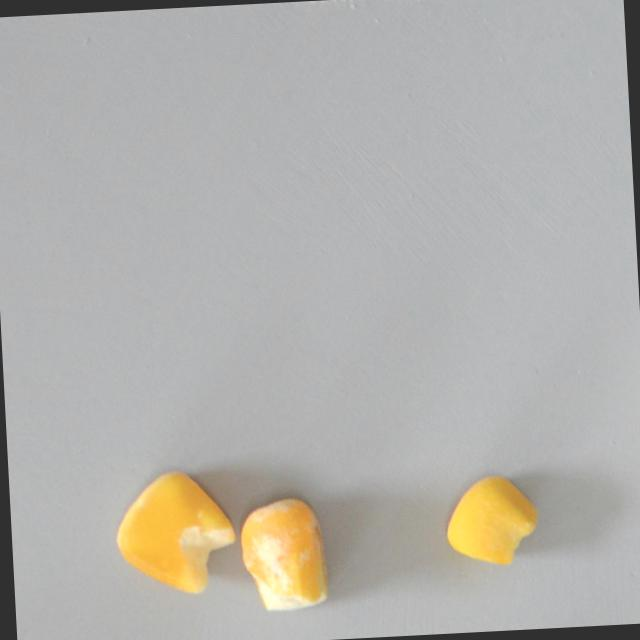no_canjicado: (112, 467, 240, 599), (443, 471, 541, 568)
pelicula: (237, 496, 330, 613)
